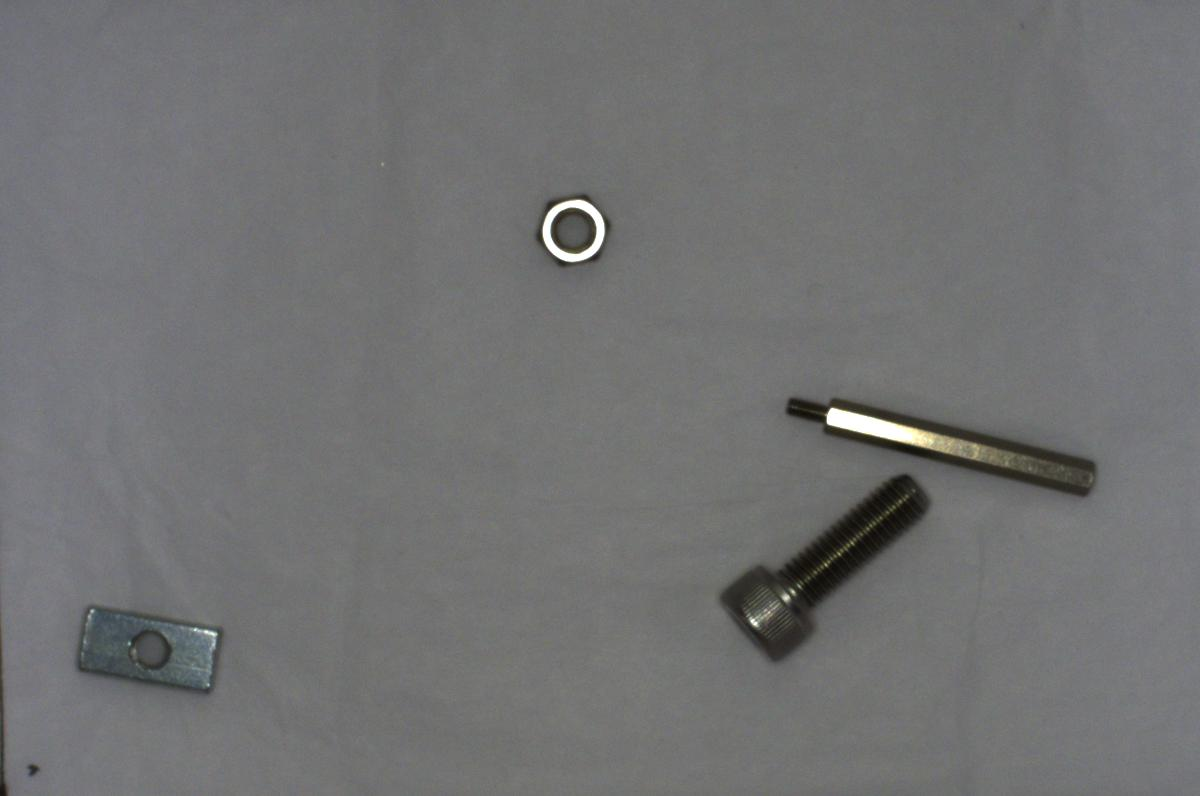Hexagon nut: (526, 187, 617, 274)
Hexagon screw: (701, 460, 939, 675)
Hexagonal steel column: (771, 372, 1104, 503)
Rectangular nut: (62, 594, 228, 706)
